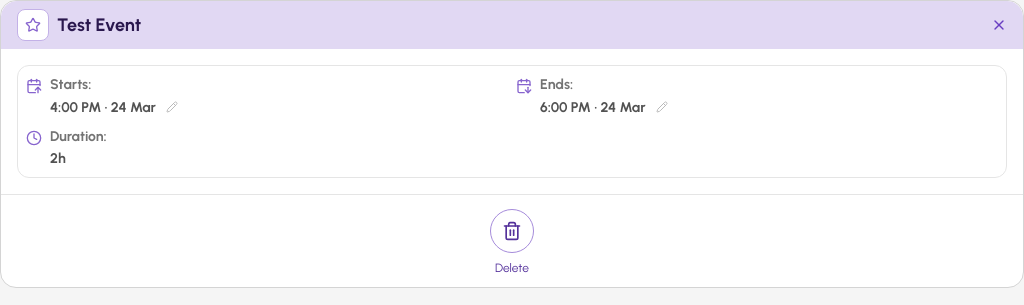
Test: CalendarEventInfo – Action Buttons › Third-party event behavior › cancels the delete confirmation overlay when Escape is pressed
This screenshot has width=1024, height=305.
Click the button titled "Delete": (512,243) top-left (490, 209), bottom-right (534, 277)
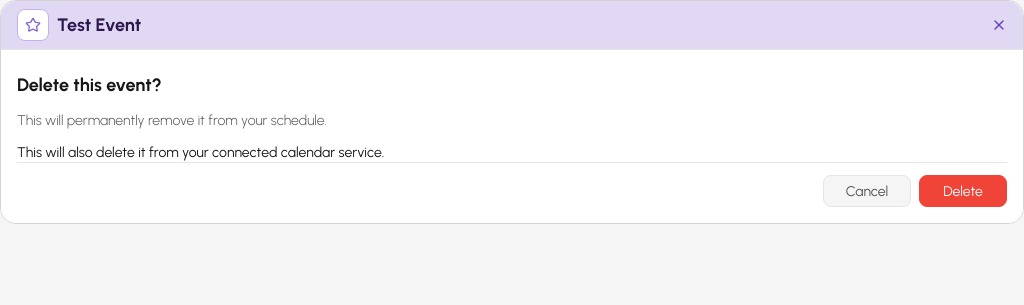
Now the heading "Delete this event?" is shown, box top-left (17, 74), bottom-right (162, 96)
Press Escape
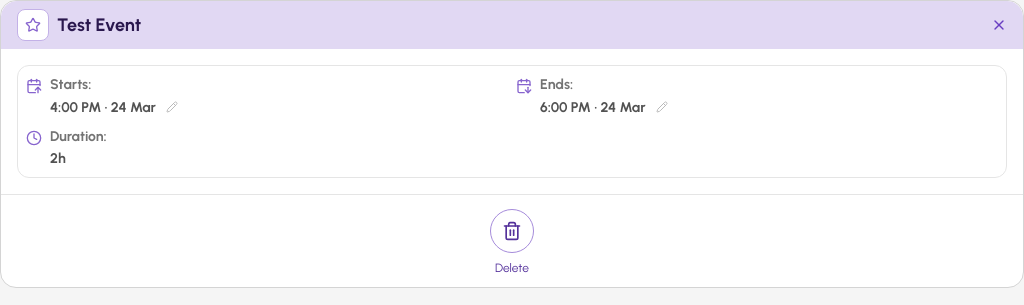
Expected: the button titled "Delete" is shown, top-left (490, 209), bottom-right (534, 277)
Now the heading "Delete this event?" is gone
